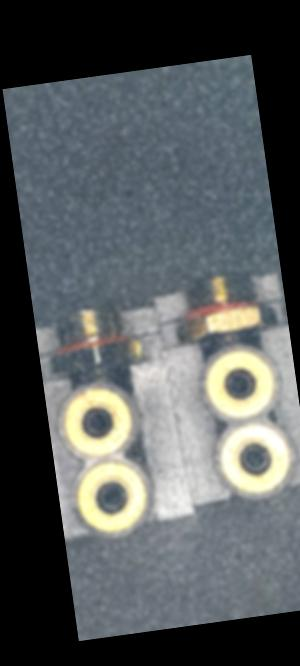craze: (92, 364, 106, 382), (224, 329, 234, 346)
off-centered: (238, 441, 275, 476)
